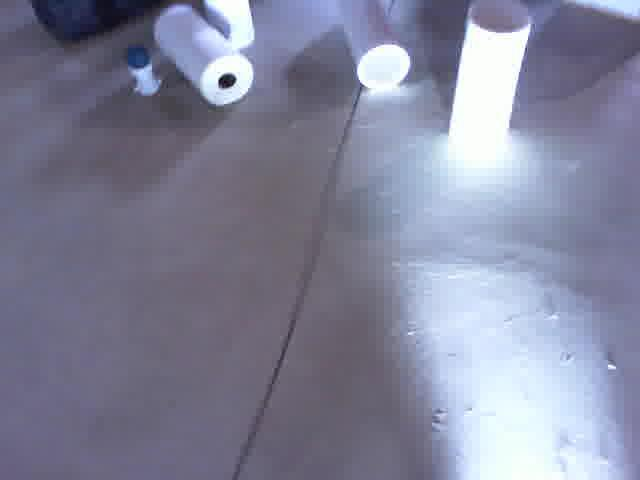coral: (439, 0, 540, 171), (333, 0, 418, 92), (195, 0, 262, 50)
